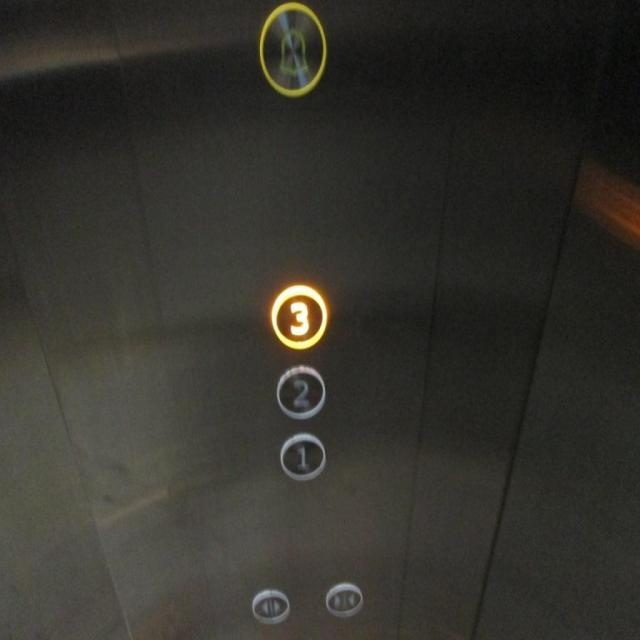1: (277, 430, 327, 483)
2: (274, 361, 327, 422)
3: (270, 278, 330, 354)
alarm: (256, 1, 331, 101)
close: (322, 580, 365, 620)
open: (248, 586, 292, 626)
